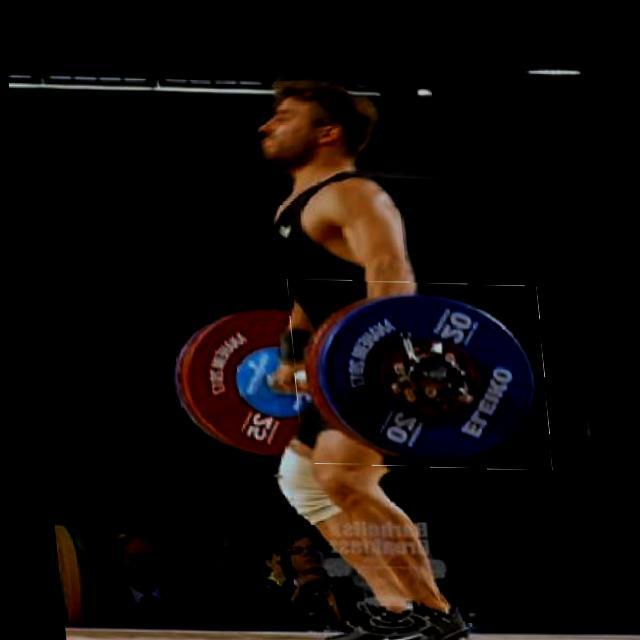barbell: (280, 280, 545, 469)
